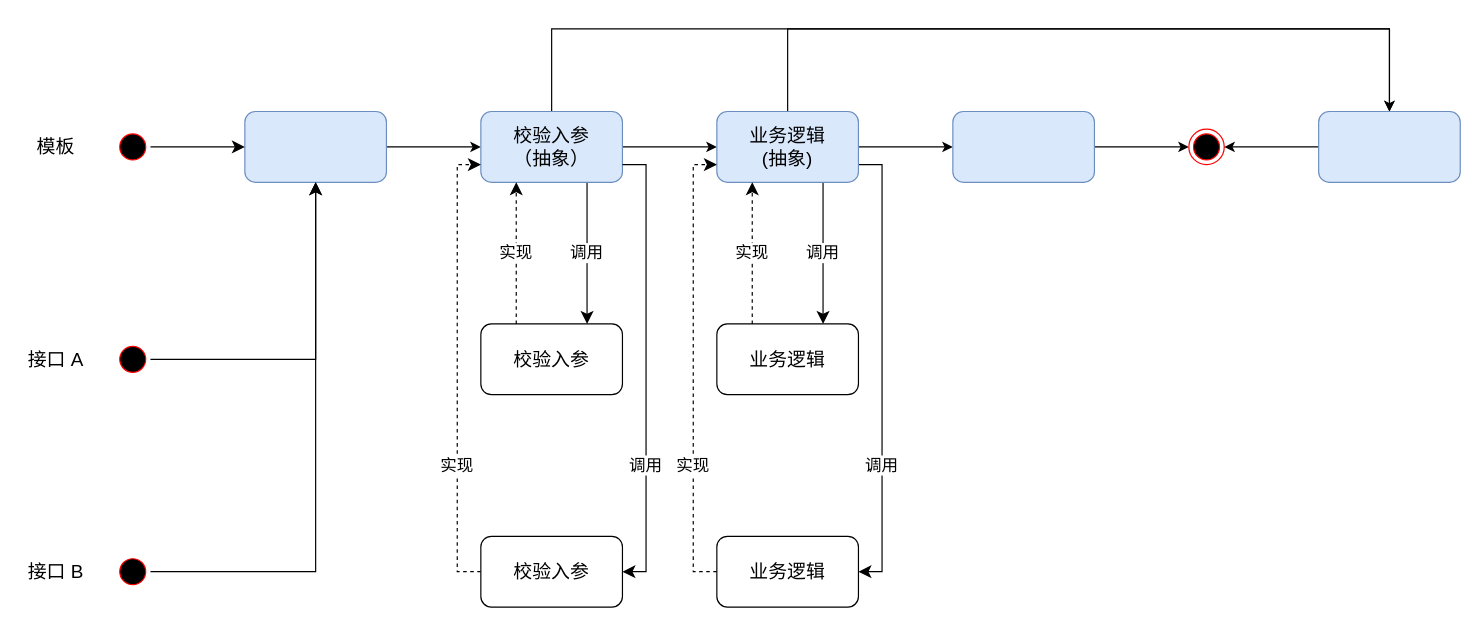
The diagram is 1481 pixels wide and 628 high, and some of its shapes have lost their labels. The centre of each missing label's shape, as x and y in pixels:
"处理异常" goes at point 1388,146.
"打印入参" goes at point 315,146.
"打印出参" goes at point 1023,146.
